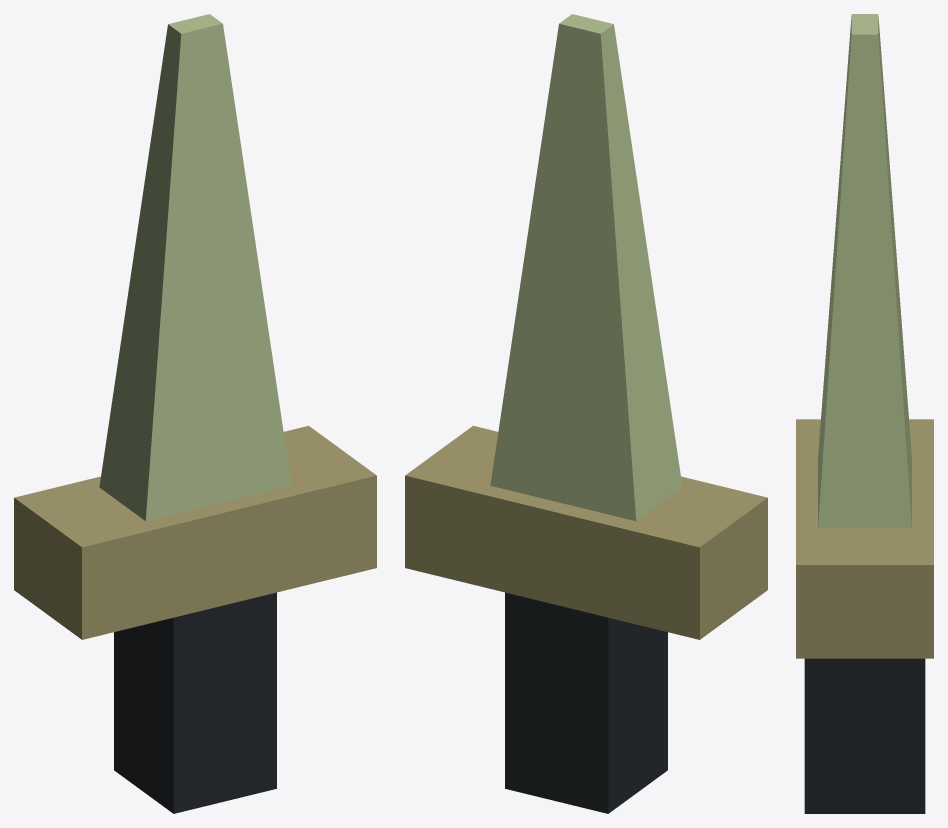
Rendered from dagger.glb.
3 renders of one model, left to right at view 1: azimuth 30°, elevation 25°; view 2: azimuth 150°, elevation 25°; view 3: azimuth 270°, elevation 25°, orthographic.
Parts seen in each view (by area): view 1: Blade, Guard, Grip; view 2: Blade, Guard, Grip; view 3: Blade, Guard, Grip.
Part boxes in pixels (x1,y1,x2,y2): Blade: (99,14,291,521); Guard: (14,425,376,639); Grip: (114,592,276,813); Blade: (490,14,682,521); Guard: (405,425,767,639); Grip: (505,592,667,813); Blade: (818,14,911,528); Guard: (796,419,933,658); Grip: (804,658,925,813).
Size of the model in its own units: 0.2 by 0.49 by 0.08.
